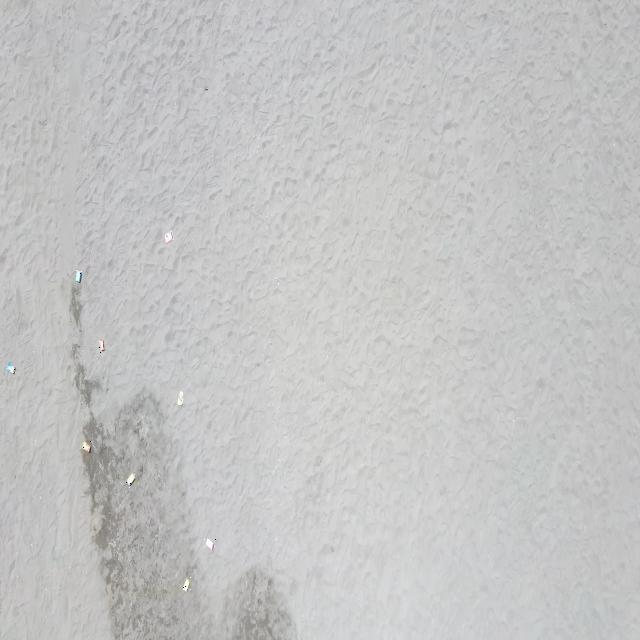retort-pouch: (164, 228, 175, 247), (125, 471, 137, 488), (182, 576, 191, 596), (6, 360, 16, 376), (176, 391, 186, 407), (204, 538, 216, 550), (74, 268, 83, 284), (81, 441, 92, 454), (99, 338, 105, 353)
